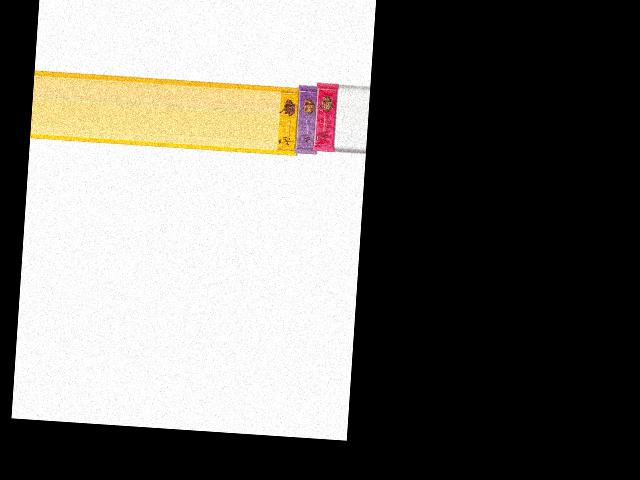chocolate: (312, 78, 340, 155)
